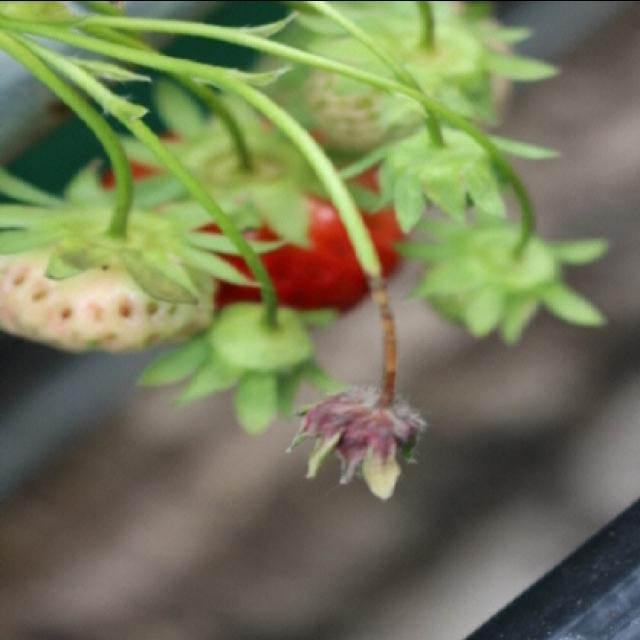Gray Mold: (284, 375, 425, 502)
